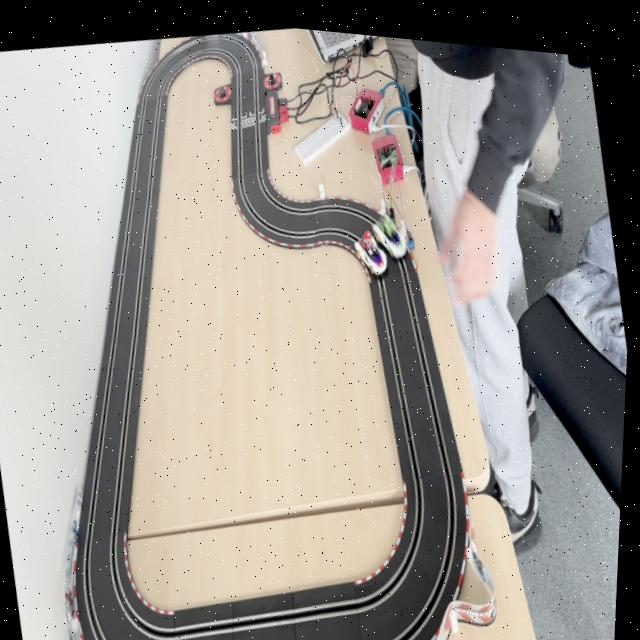mario: (349, 214, 395, 275)
yoshi: (369, 203, 416, 259)
